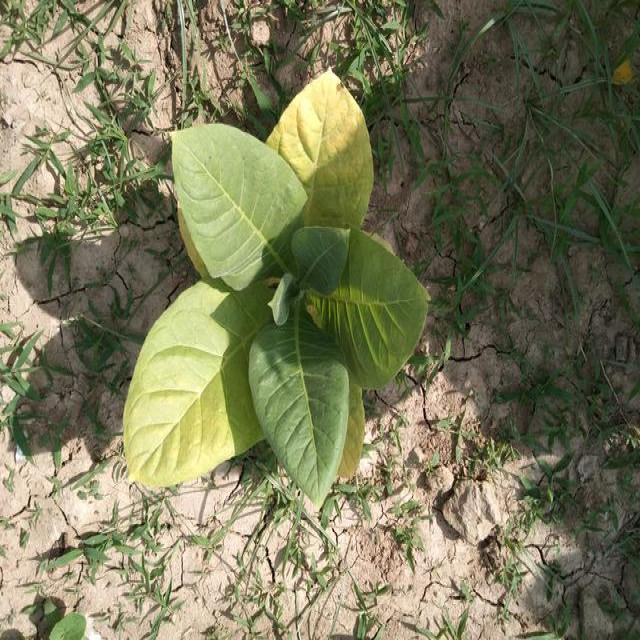crop: (122, 55, 433, 506)
